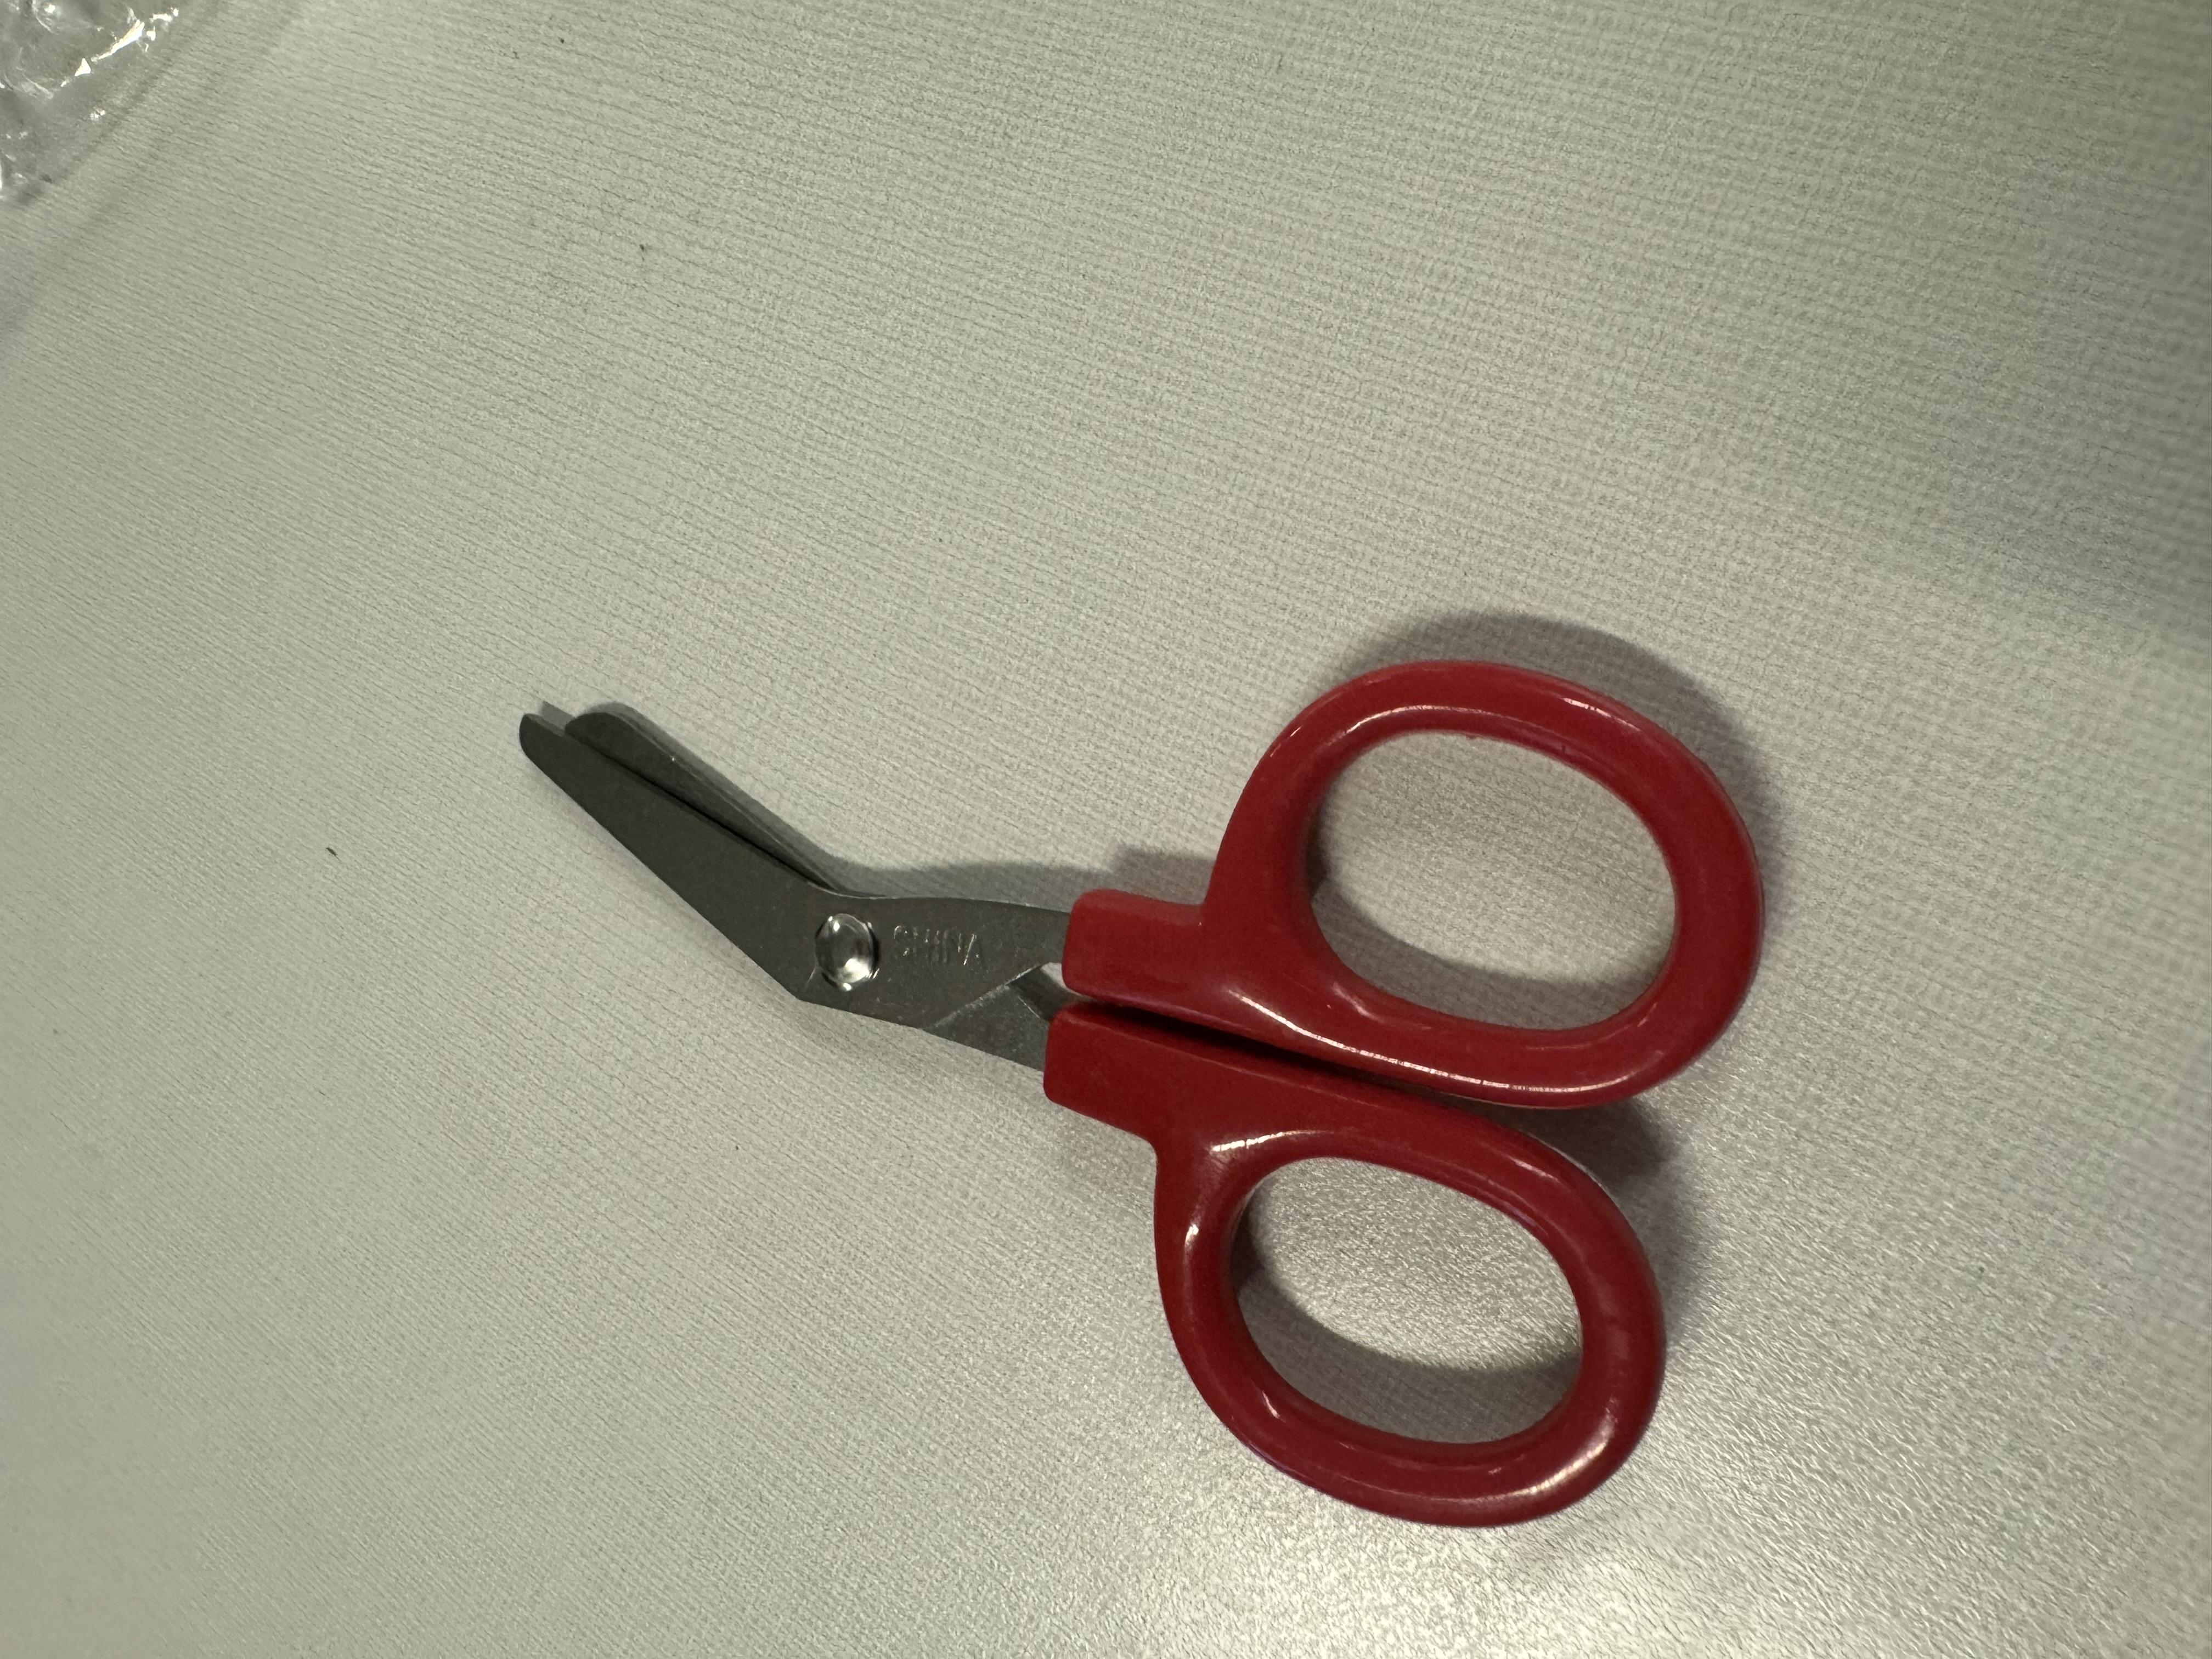scissors: (150, 333, 1559, 1399)
